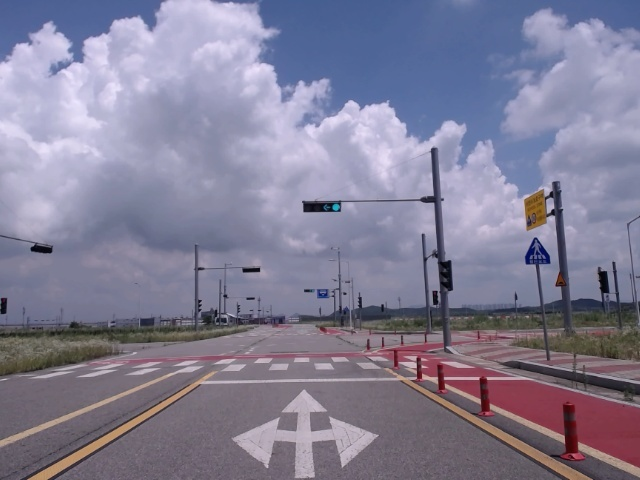all_green_4: (306, 201, 344, 212)
